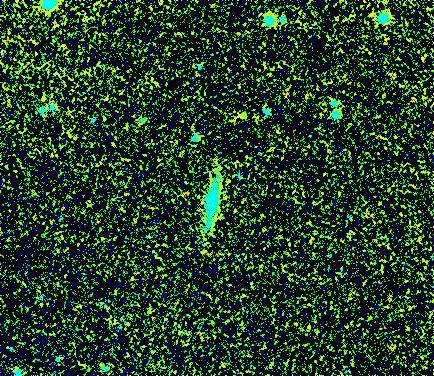star: (227, 101, 257, 131)
